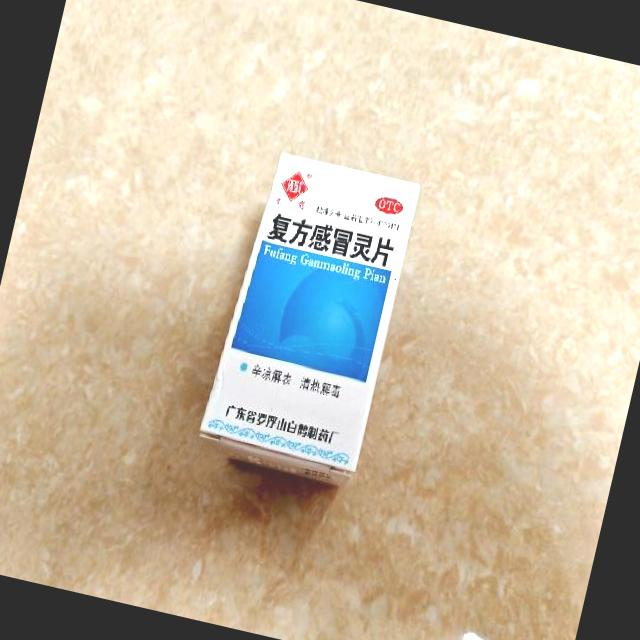box: (194, 146, 423, 489)
